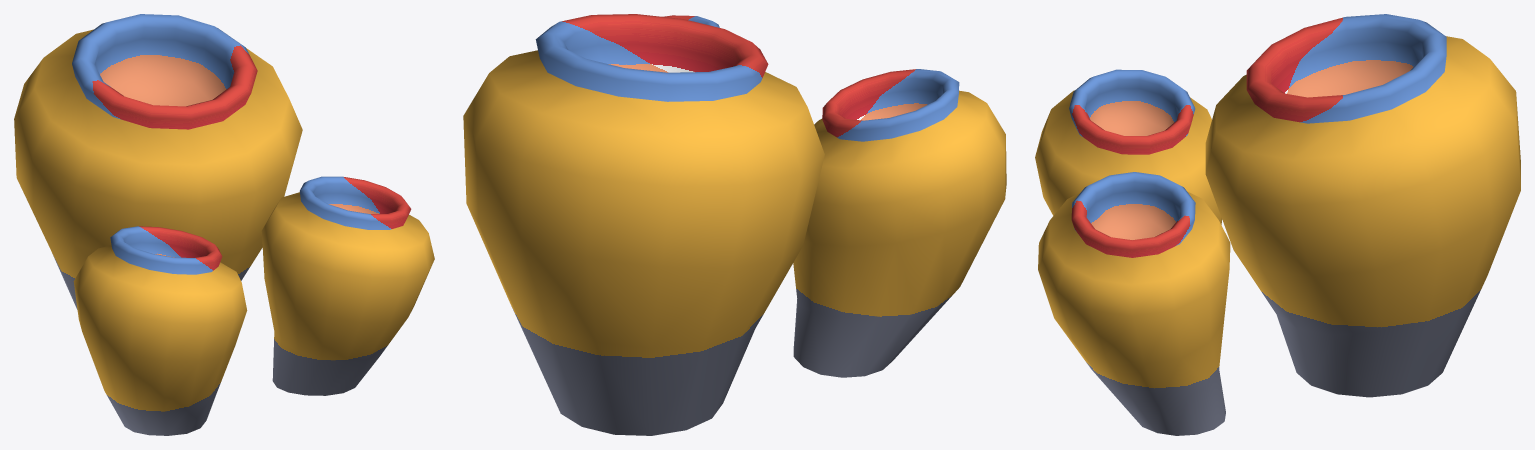
Rendered from D_CoralReef.135.glb.
The picture shows the model from 3 angles, left to right: view 1: azimuth 30°, elevation 25°; view 2: azimuth 150°, elevation 25°; view 3: azimuth 270°, elevation 25°; orthographic projection. The views are drawn at different scales.
Parts seen in each view (by area): view 1: D_CoralReef.135; view 2: D_CoralReef.135; view 3: D_CoralReef.135.
Part boxes in pixels (bbox=[...]): D_CoralReef.135: bbox=[14, 14, 434, 435]; D_CoralReef.135: bbox=[463, 14, 1006, 435]; D_CoralReef.135: bbox=[1035, 14, 1520, 435].
Bounding box in the file's own units: 0.4927 × 0.4163 × 0.5493.
Materials: 1 (1 with a texture image).
